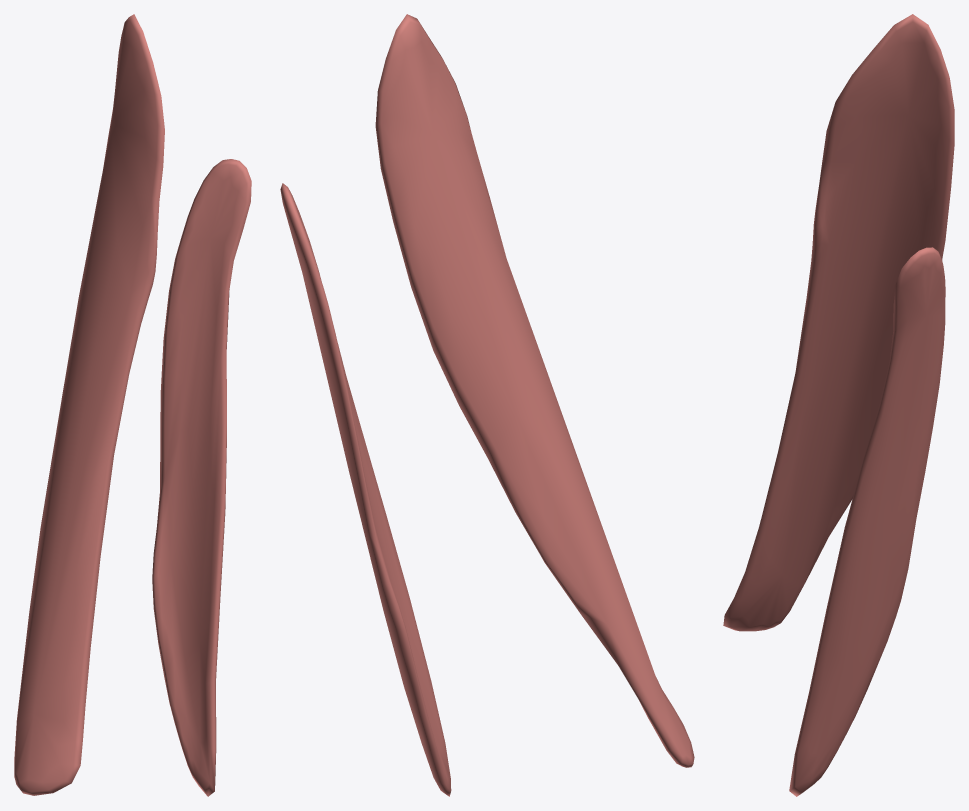
3 renders of one model, left to right at view 1: azimuth 30°, elevation 25°; view 2: azimuth 150°, elevation 25°; view 3: azimuth 270°, elevation 25°, orthographic. The views are drawn at different scales.
Visible parts, largest first — view 1: ZA_59b96799bb151ee9; view 2: ZA_59b96799bb151ee9; view 3: ZA_59b96799bb151ee9.
Boxes of the visible parts, left/top/right/bottom form: ZA_59b96799bb151ee9: left=14, top=14, right=251, bottom=796; ZA_59b96799bb151ee9: left=280, top=14, right=694, bottom=796; ZA_59b96799bb151ee9: left=723, top=14, right=954, bottom=796.
Bounding box in the file's own units: 0.016 × 0.0383 × 0.0104.
